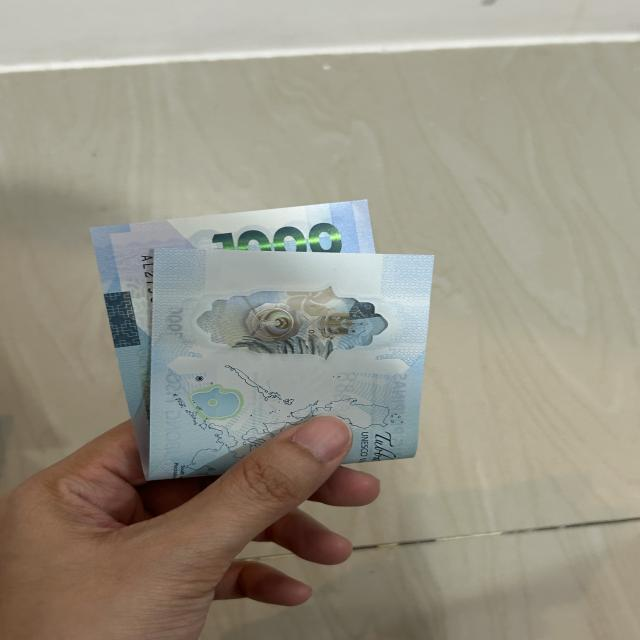clear_window: (197, 285, 400, 368)
